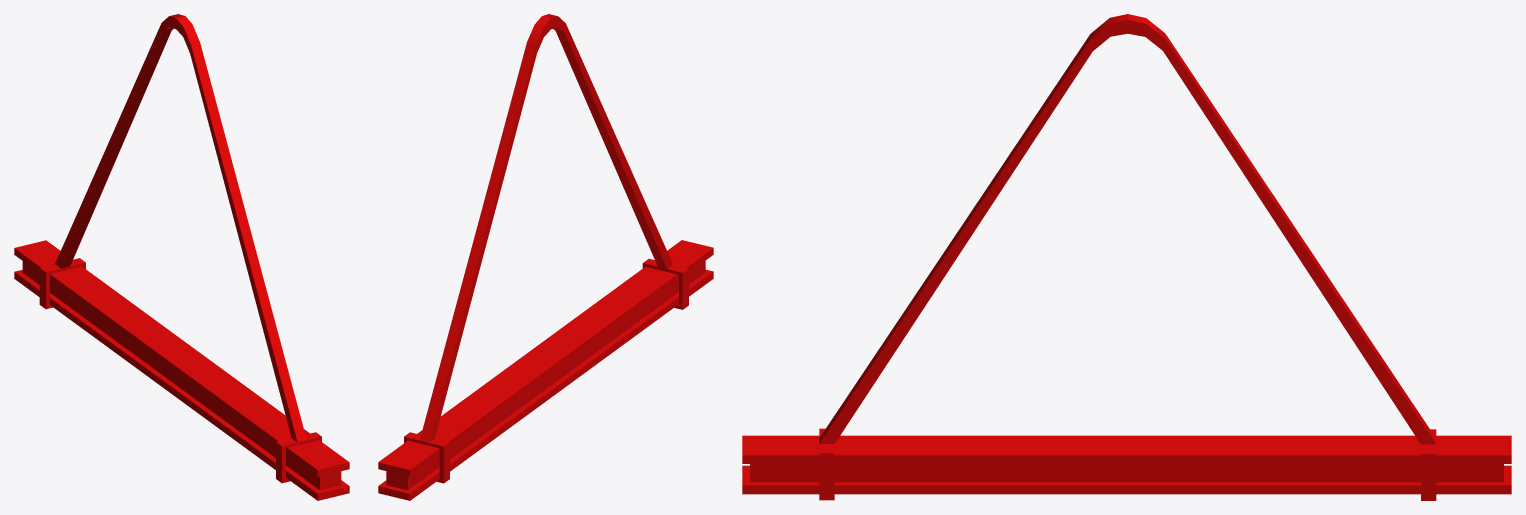
The model's file is Crane Load.fbx.
3 renders of one model, left to right at view 1: azimuth 30°, elevation 25°; view 2: azimuth 150°, elevation 25°; view 3: azimuth 270°, elevation 25°, orthographic. The views are drawn at different scales.
Parts seen in each view (by area): view 1: pCube97; view 2: pCube97; view 3: pCube97.
Part boxes in pixels (<box>): pCube97: <box>14,14,349,500</box>; pCube97: <box>378,14,713,500</box>; pCube97: <box>742,14,1511,500</box>.
Size of the model in its own units: 2.15 by 18.54 by 27.42.
